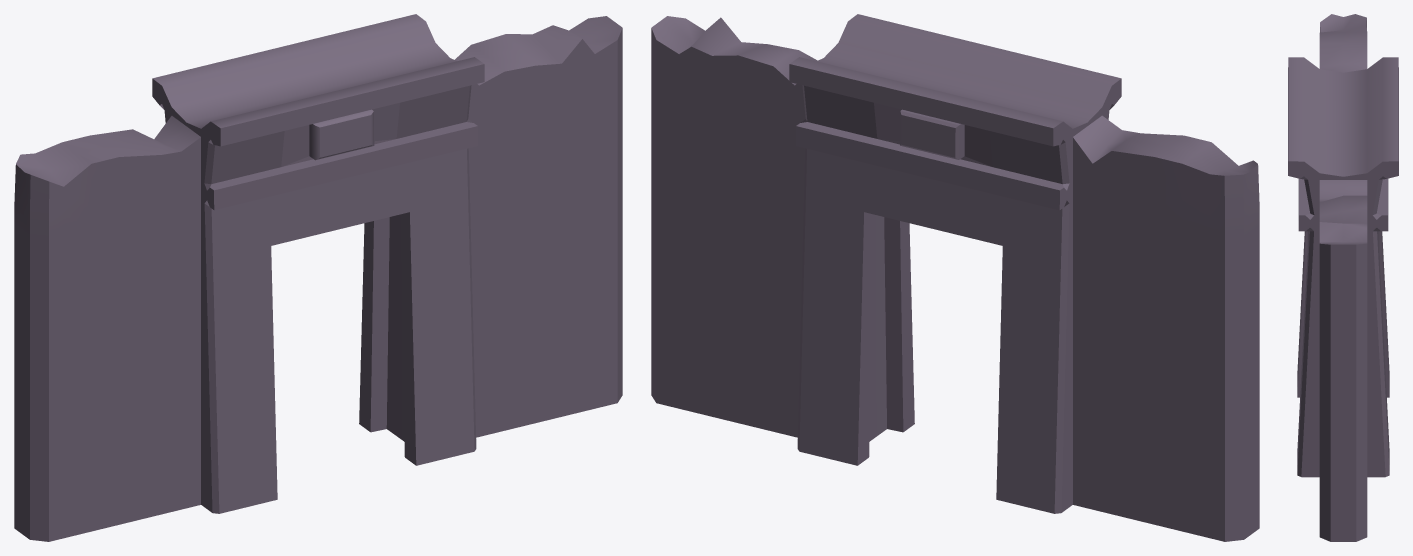
File: ArchDARK_moranM.fbx
The picture shows the model from 3 angles, left to right: view 1: azimuth 30°, elevation 25°; view 2: azimuth 150°, elevation 25°; view 3: azimuth 270°, elevation 25°; orthographic projection. The views are drawn at different scales.
Parts seen in each view (by area): view 1: Archway_DIRTY; view 2: Archway_DIRTY; view 3: Archway_DIRTY.
Boxes of the visible parts, x1=… form: Archway_DIRTY: x1=14, y1=14, x2=622, y2=541; Archway_DIRTY: x1=651, y1=14, x2=1259, y2=541; Archway_DIRTY: x1=1288, y1=14, x2=1398, y2=541.
Size of the model in its own units: 38.84 by 24.47 by 7.78.
Materials: 1 (1 with a texture image).
